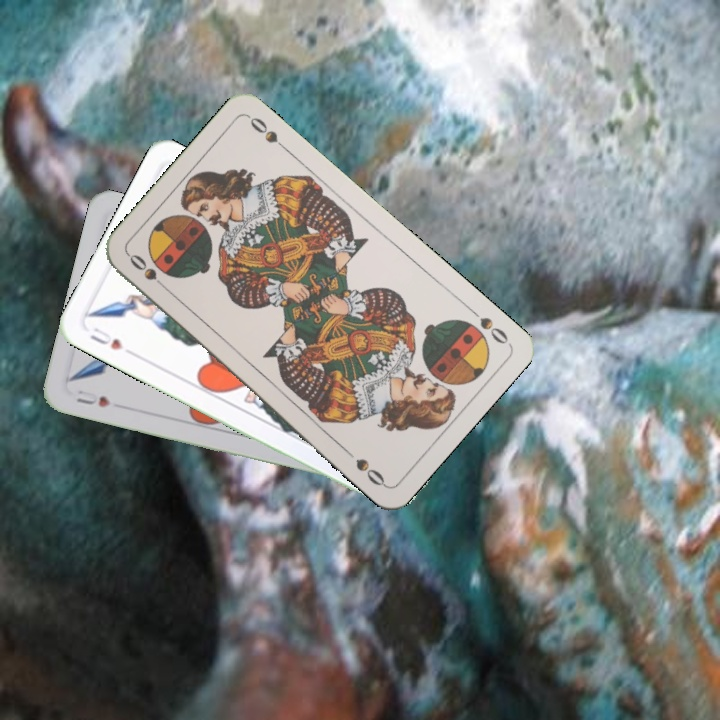HU: (86, 323, 126, 353), (72, 386, 113, 410)
SO: (125, 249, 173, 295), (464, 303, 511, 347)
